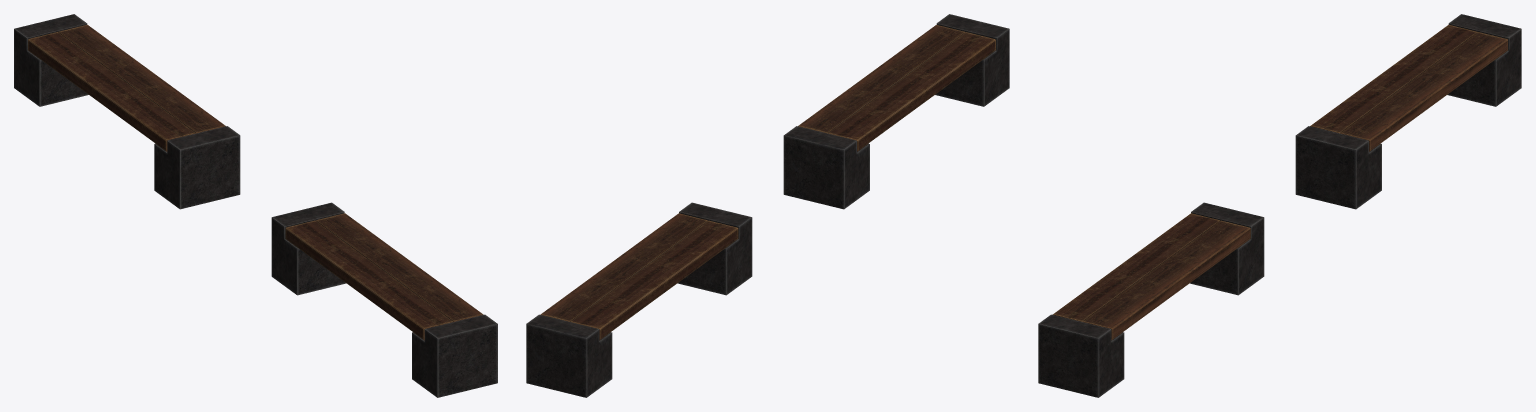
Rendered from Sillas.glb.
3 views of the same model, side by side, from view 1: azimuth 30°, elevation 25°; view 2: azimuth 150°, elevation 25°; view 3: azimuth 330°, elevation 25° (orthographic).
Parts seen in each view (by area): view 1: Long.bench, Long.bench.001; view 2: Long.bench, Long.bench.001; view 3: Long.bench.001, Long.bench.
Part boxes in pixels (x1,y1,x2,y2): Long.bench: [14, 14, 240, 209]; Long.bench.001: [271, 202, 497, 397]; Long.bench: [526, 202, 752, 397]; Long.bench.001: [783, 14, 1009, 209]; Long.bench.001: [1038, 202, 1264, 397]; Long.bench: [1295, 14, 1521, 209].
Size of the model in its own units: 0.5425 by 0.5087 by 6.58.
1 material, 1 textured.
